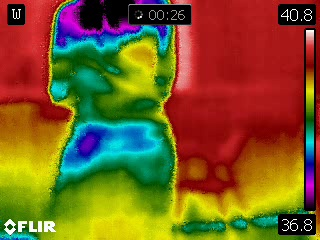human: (45, 1, 182, 240)
